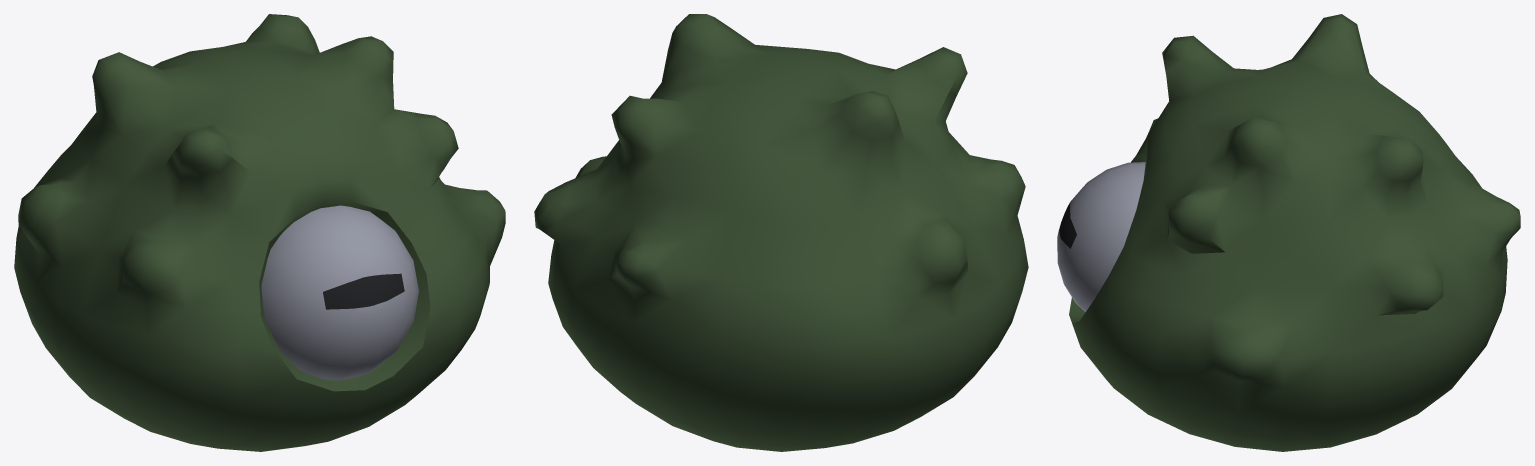
Rendered from GreenBlob.obj.
3 views of the same model, side by side, from view 1: azimuth 30°, elevation 25°; view 2: azimuth 150°, elevation 25°; view 3: azimuth 270°, elevation 25° (orthographic). The views are drawn at different scales.
Visible parts, largest first — view 1: Green_Blob_Cube.016, Green_Blob.001_Cube.000; view 2: Green_Blob_Cube.016; view 3: Green_Blob_Cube.016, Green_Blob.001_Cube.000.
Boxes of the visible parts, box(x1,y1,x2,y2) form: Green_Blob_Cube.016: box(14, 14, 505, 451); Green_Blob.001_Cube.000: box(261, 205, 418, 380); Green_Blob_Cube.016: box(534, 14, 1028, 451); Green_Blob_Cube.016: box(1069, 14, 1520, 451); Green_Blob.001_Cube.000: box(1057, 162, 1145, 311).
Bounding box in the file's own units: 2.25 × 1.91 × 2.19.
